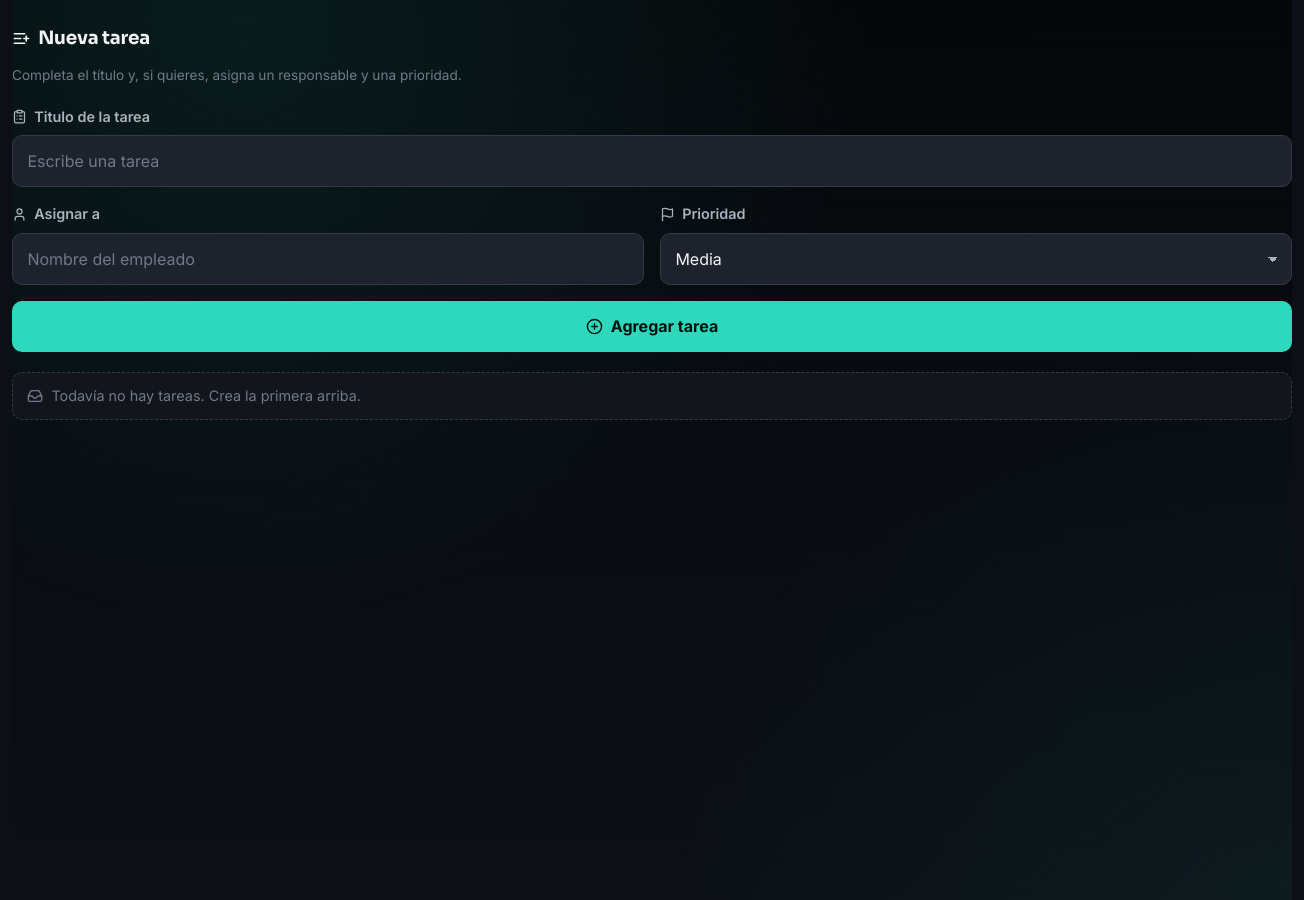
Test: CreateTaskPanel (formulario de tareas) › muestra un error si se intenta crear una tarea sin titulo
Click the button "Agregar tarea".
click(652, 327)  # box [12, 301, 1292, 352]
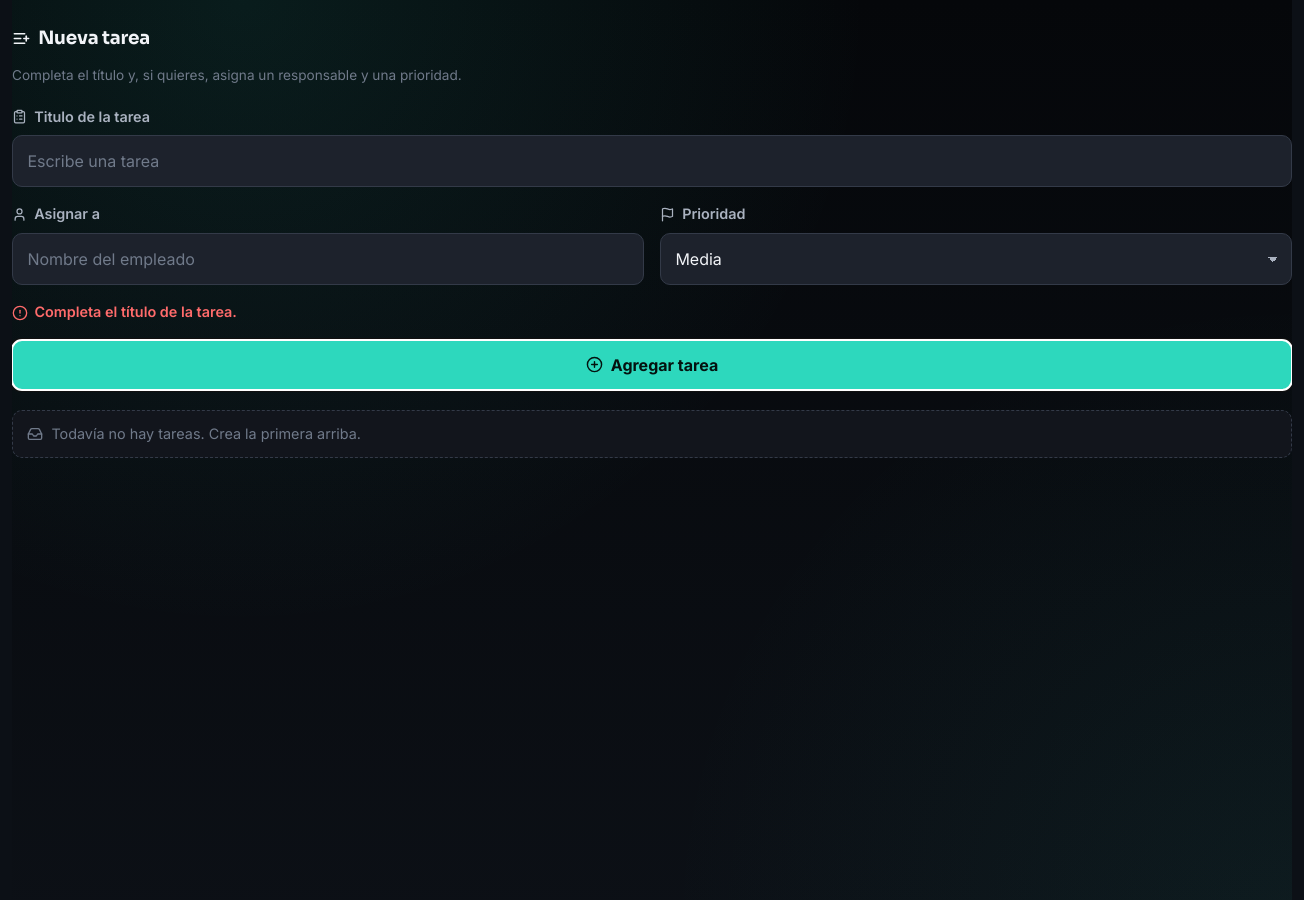
Expected: the text "Completa el título de la tarea." is shown, [12, 303, 237, 321]
